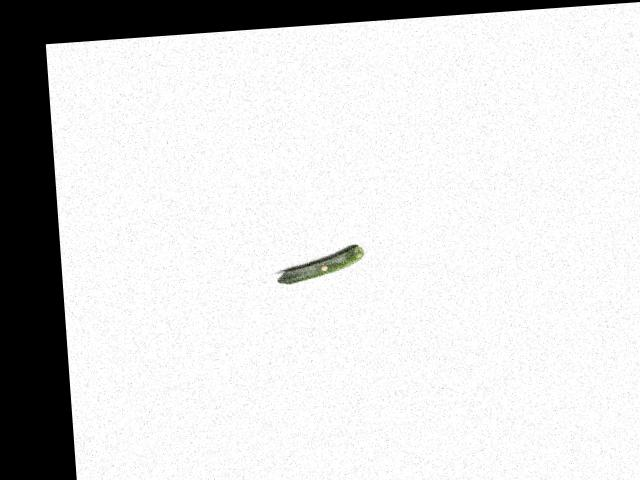cucumber: (275, 245, 366, 284)
